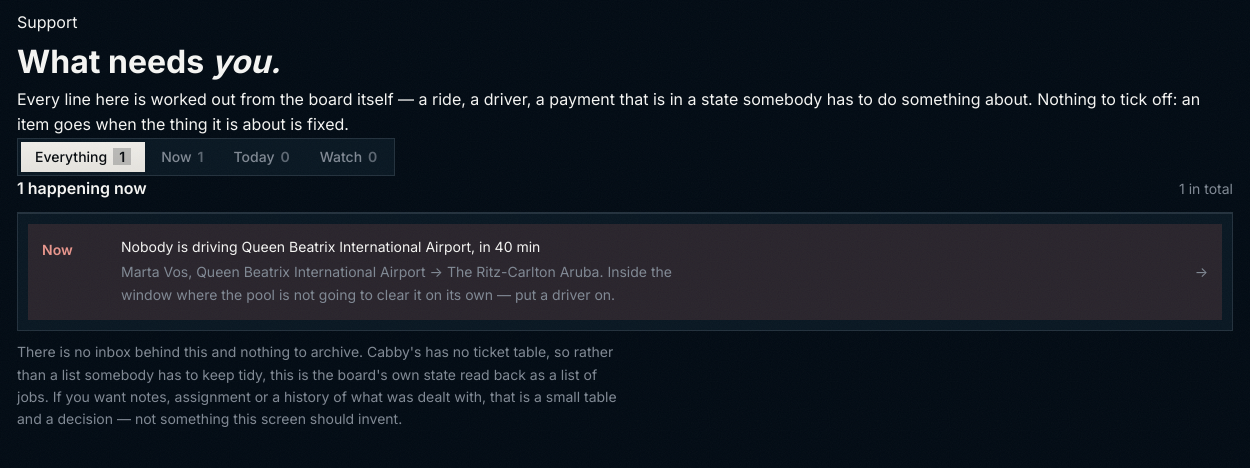
Scenario: support › filters by grade without pretending the list is empty
Click the button "Watch0".
click(348, 157)  # box left=306, top=142, right=391, bottom=172
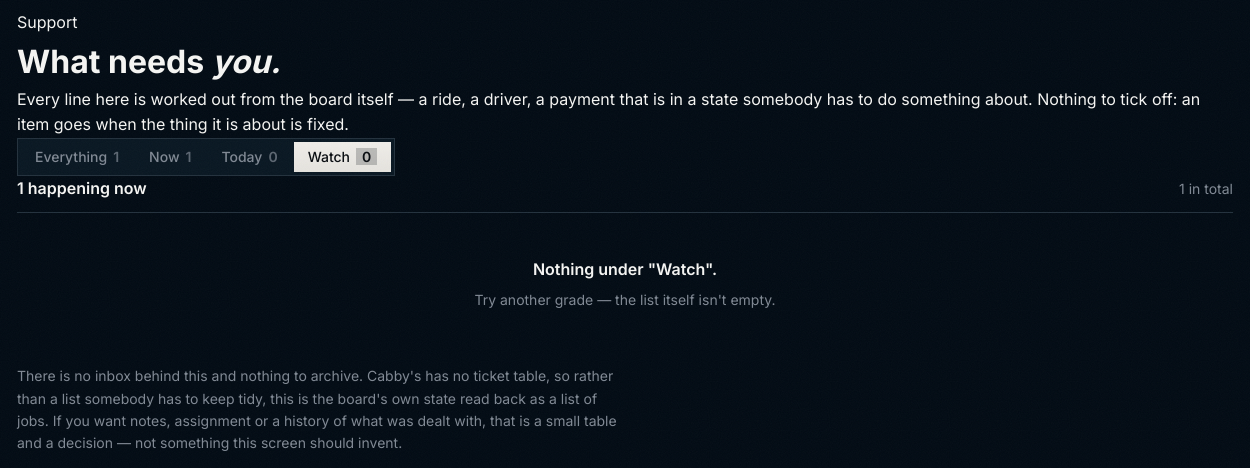
Expected: the text "Nothing under \"Watch\"." is shown, left=533, top=259, right=717, bottom=279
Expected: the text "Try another grade — the list itself isn't empty." is shown, left=474, top=291, right=776, bottom=308
